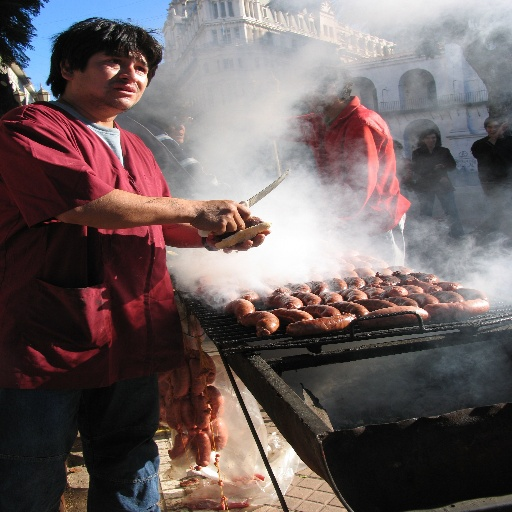hand: (180, 184, 270, 248), (205, 227, 272, 253), (494, 121, 510, 136), (438, 178, 451, 184), (434, 165, 445, 171)
